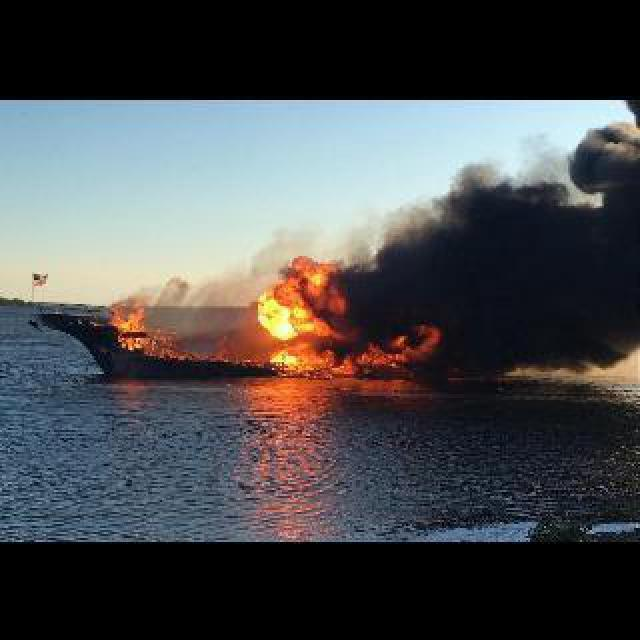Fire: (266, 252, 406, 374), (114, 296, 158, 354)
Smoke: (330, 110, 638, 384), (144, 262, 248, 328)
